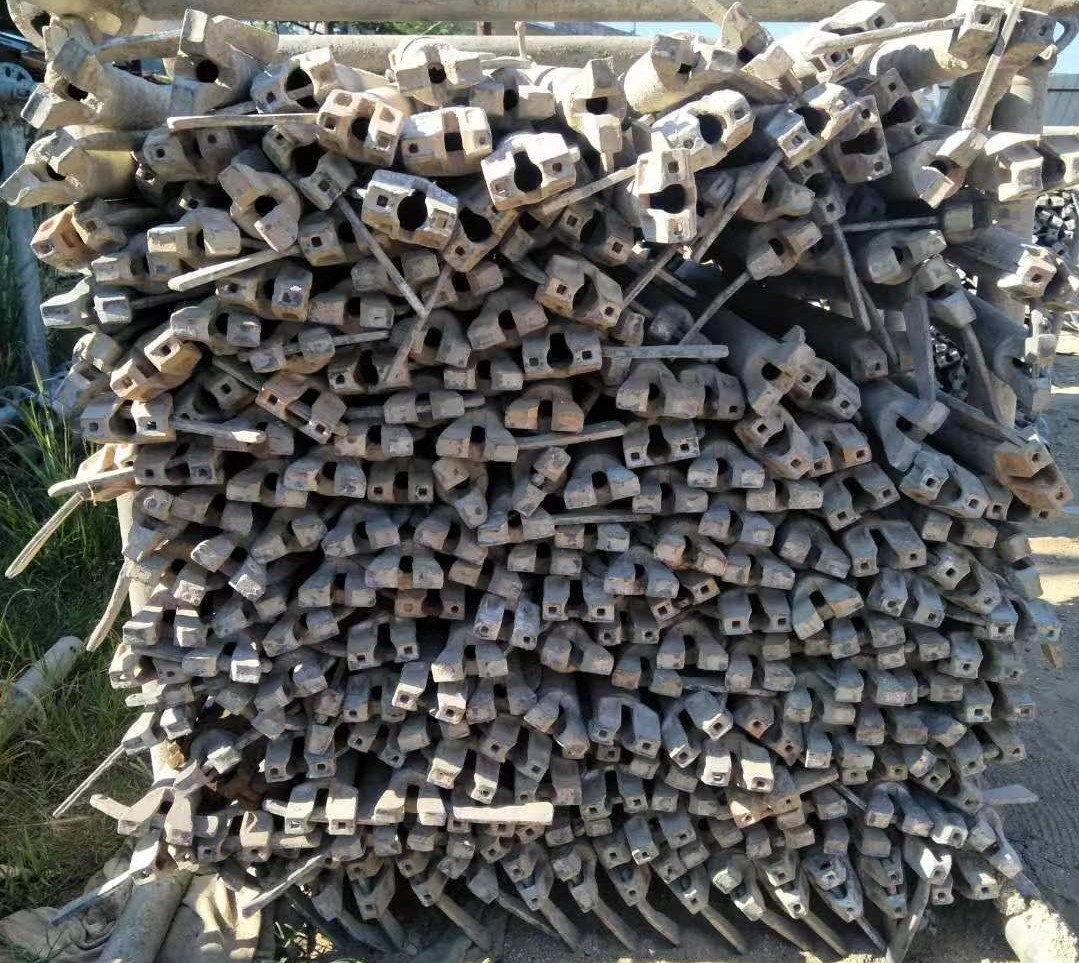NHsquare_steel: (17, 35, 92, 129), (224, 166, 295, 253), (1, 131, 77, 208), (879, 393, 949, 471), (919, 128, 984, 210), (749, 340, 816, 416), (729, 1, 792, 80), (747, 220, 821, 284), (864, 230, 946, 286), (580, 56, 625, 154), (172, 9, 210, 117), (56, 335, 112, 408), (196, 542, 264, 601), (515, 447, 572, 517), (433, 458, 488, 529), (921, 255, 975, 326), (908, 711, 965, 778), (650, 33, 736, 77), (792, 589, 865, 638), (216, 688, 283, 741), (423, 265, 507, 307), (524, 707, 590, 758), (250, 668, 328, 711), (170, 310, 260, 347), (1009, 147, 1078, 195), (175, 744, 241, 794), (125, 490, 170, 563), (733, 172, 813, 213), (396, 56, 485, 92), (503, 203, 556, 262), (390, 326, 470, 365), (172, 496, 251, 535), (254, 518, 329, 559), (971, 823, 1024, 881), (468, 308, 548, 346), (434, 430, 520, 465), (1019, 334, 1057, 413), (206, 600, 289, 636), (618, 385, 705, 419), (417, 524, 487, 566), (713, 868, 765, 924), (124, 566, 204, 602), (150, 226, 237, 259), (291, 868, 343, 923), (351, 256, 440, 288), (39, 297, 130, 328), (652, 536, 726, 574), (283, 462, 365, 496), (437, 858, 496, 904), (699, 513, 775, 548), (322, 523, 398, 557), (562, 474, 638, 508), (251, 339, 331, 371), (1005, 532, 1042, 601), (784, 538, 851, 576), (920, 517, 997, 550), (440, 362, 524, 392), (474, 85, 555, 116), (718, 560, 796, 592), (556, 853, 598, 912), (475, 516, 554, 547), (448, 566, 520, 600), (470, 689, 536, 726), (944, 201, 1019, 233), (544, 642, 612, 677), (396, 724, 475, 754), (89, 257, 180, 283), (309, 299, 396, 326), (775, 798, 846, 831), (557, 520, 632, 551), (226, 479, 311, 506), (681, 828, 741, 866), (832, 624, 903, 656), (117, 815, 190, 846), (506, 405, 583, 434), (306, 693, 343, 753), (186, 656, 259, 686), (372, 799, 445, 829), (743, 829, 816, 859), (865, 804, 929, 838), (608, 667, 678, 698), (836, 678, 903, 710), (601, 570, 680, 597), (298, 581, 374, 609), (118, 623, 206, 647), (124, 721, 190, 753), (783, 696, 853, 726), (429, 658, 512, 683), (334, 434, 413, 460), (384, 397, 465, 422), (852, 721, 929, 747), (509, 551, 583, 578), (651, 792, 721, 820), (878, 641, 953, 667), (800, 744, 875, 770), (821, 832, 893, 859), (724, 665, 795, 692), (747, 488, 824, 512), (400, 834, 476, 858), (366, 568, 446, 590), (327, 839, 403, 862), (691, 465, 763, 489), (541, 818, 614, 841), (630, 492, 708, 513), (659, 648, 727, 671), (909, 681, 962, 704)
THsquare_steel: (267, 125, 343, 210), (776, 85, 856, 163), (360, 183, 456, 242), (668, 92, 755, 152), (445, 199, 512, 273), (483, 151, 575, 203), (647, 151, 697, 242), (314, 108, 398, 160), (111, 341, 187, 398), (910, 461, 986, 518), (542, 274, 622, 327), (1018, 437, 1072, 510), (967, 1, 1055, 45), (750, 412, 808, 478), (879, 67, 929, 143), (558, 209, 632, 260), (139, 128, 231, 169), (666, 707, 728, 767), (827, 479, 898, 530), (1014, 257, 1079, 311), (934, 556, 999, 610), (33, 212, 106, 260), (402, 128, 494, 166), (216, 275, 306, 313), (853, 96, 892, 182), (519, 342, 605, 380), (798, 156, 845, 224), (388, 685, 465, 726), (480, 736, 548, 782), (801, 366, 860, 419), (79, 410, 169, 444), (302, 220, 380, 258), (176, 380, 246, 420), (921, 821, 966, 883), (426, 763, 496, 802), (748, 710, 799, 762), (603, 843, 644, 907), (925, 770, 982, 816), (631, 822, 696, 862), (875, 590, 941, 629), (853, 539, 925, 574), (653, 580, 716, 620), (624, 435, 699, 468), (590, 721, 660, 756), (768, 861, 808, 922), (660, 860, 703, 915), (396, 855, 439, 910), (128, 851, 197, 885), (954, 654, 1024, 687), (325, 360, 407, 388), (259, 756, 339, 784), (347, 639, 419, 670), (537, 596, 615, 624), (348, 730, 403, 769), (810, 442, 873, 475), (505, 856, 543, 910), (702, 766, 775, 794), (985, 499, 1052, 529), (475, 619, 536, 651), (106, 665, 183, 690), (982, 616, 1059, 641), (393, 598, 464, 625), (932, 878, 1000, 905), (960, 699, 1040, 721), (196, 842, 270, 864), (724, 610, 789, 635), (369, 480, 435, 504), (514, 784, 582, 807), (840, 763, 904, 787), (345, 700, 404, 726), (447, 817, 513, 840), (597, 622, 658, 645), (704, 392, 745, 420)
THsquare_steel_blocked: (815, 4, 897, 72), (250, 55, 339, 108), (258, 385, 334, 444), (133, 459, 224, 491), (815, 863, 863, 923), (859, 341, 916, 383), (955, 741, 1026, 774), (730, 797, 803, 828), (577, 793, 648, 822), (281, 811, 356, 837), (349, 860, 380, 922), (875, 865, 908, 918)
